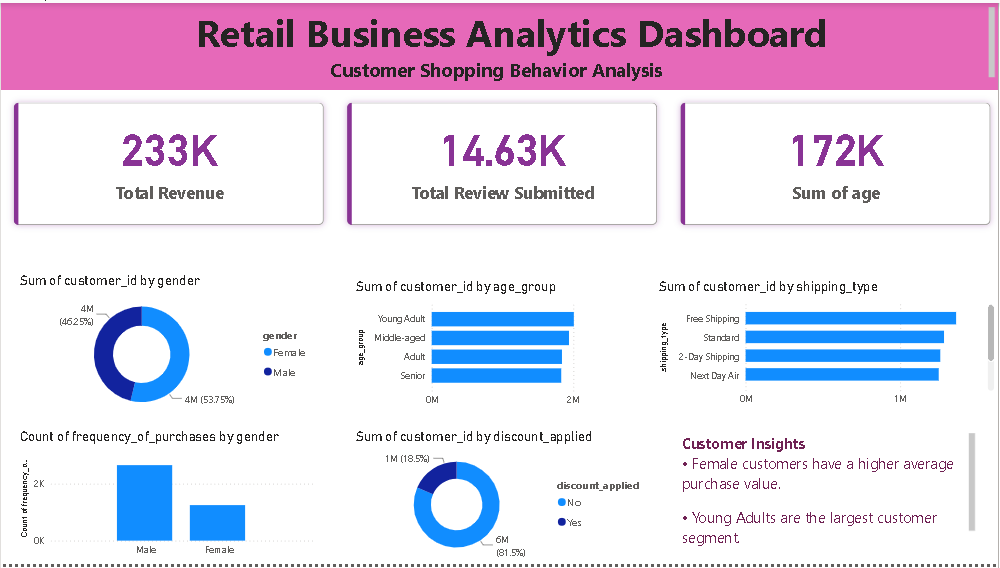

This screenshot's page, from the dashboard's own definition file:
{"tool":"powerbi","page":{"name":"Customer Analytics","canvas":[1280,720],"ordinal":1},"visuals":[{"type":"textbox","box":[0,0,1280.8,111.7],"z":0},{"type":"cardVisual","fields":{"Data":["public customer.Total Revenue","Sum(public customer.review_rating)","Sum(public customer.age)"]},"box":[0,111.7,1287.3,189.4],"z":1000},{"type":"donutChart","fields":{"Category":["public customer.gender"],"Y":["Sum(public customer.customer_id)"]},"box":[19.3,346.6,387.1,188.7],"z":2000},{"type":"clusteredBarChart","fields":{"Category":["public customer.age_group"],"Y":["Sum(public customer.customer_id)"]},"box":[450.6,354.3,389,173.3],"z":3000},{"type":"donutChart","fields":{"Category":["public customer.discount_applied"],"Y":["Sum(public customer.customer_id)"]},"box":[451,546,389,174],"z":4000},{"type":"textbox","box":[869,546,387,174],"z":5000},{"type":"clusteredColumnChart","fields":{"Y":["CountNonNull(public customer.frequency_of_purchases)"],"Category":["public customer.gender"]},"box":[19,546,387,174],"z":6000},{"type":"clusteredBarChart","fields":{"Category":["public customer.shipping_type"],"Y":["Sum(public customer.customer_id)"]},"box":[840,354,440,173],"z":7000}]}

Visuals, with their boxes in screenshot pixels (x1, y1, x2, y2), scaled from the page's 1280x720 canvas onto the 1000x568 screenshot:
textbox: x1=0, y1=0, x2=999, y2=88
cardVisual - public customer.Total Revenue x Sum(public customer.review_rating): x1=0, y1=88, x2=999, y2=238
donutChart - public customer.gender x Sum(public customer.customer_id): x1=15, y1=273, x2=318, y2=422
clusteredBarChart - public customer.age_group x Sum(public customer.customer_id): x1=352, y1=280, x2=656, y2=416
donutChart - public customer.discount_applied x Sum(public customer.customer_id): x1=352, y1=431, x2=656, y2=567
textbox: x1=679, y1=431, x2=981, y2=567
clusteredColumnChart - CountNonNull(public customer.frequency_of_purchases) x public customer.gender: x1=15, y1=431, x2=317, y2=567
clusteredBarChart - public customer.shipping_type x Sum(public customer.customer_id): x1=656, y1=279, x2=999, y2=416
